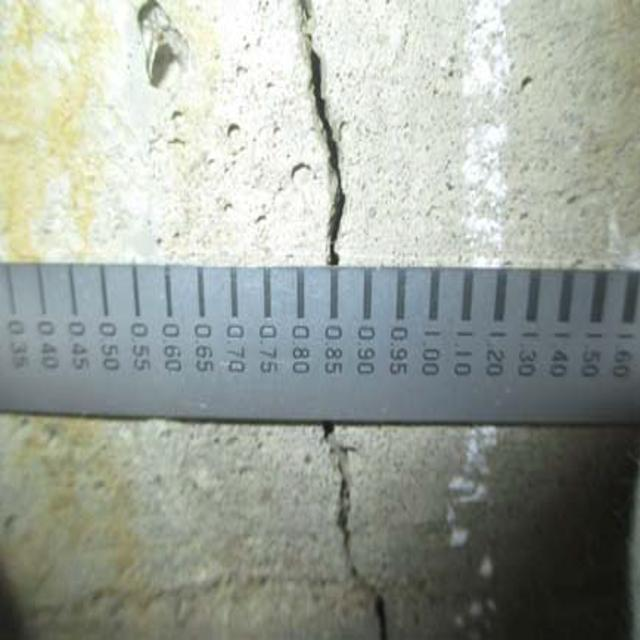crack: (284, 7, 382, 269), (296, 423, 407, 640)
